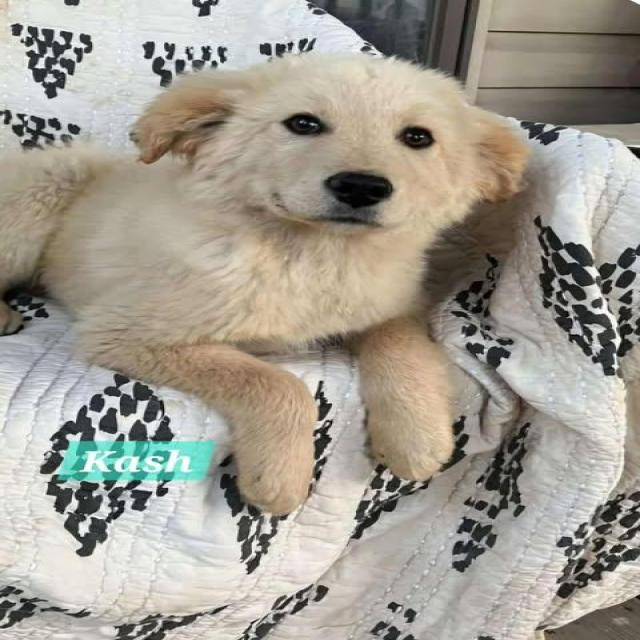golden_retriever_dog: (107, 38, 543, 256)
